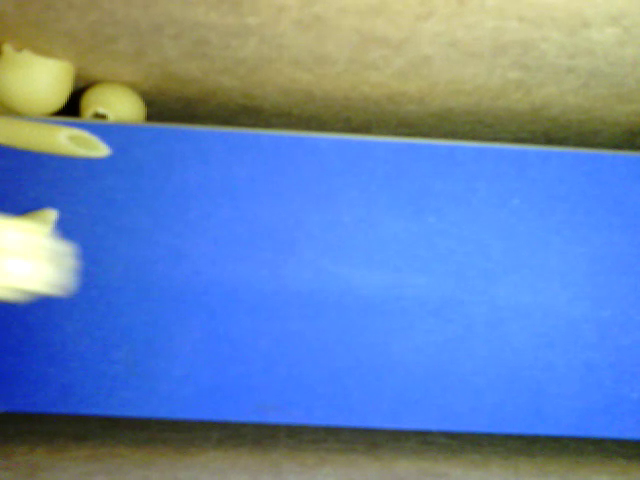penne: (1, 115, 113, 156)
shell: (1, 42, 75, 118), (80, 81, 147, 122)
tortellini: (1, 208, 80, 302)
